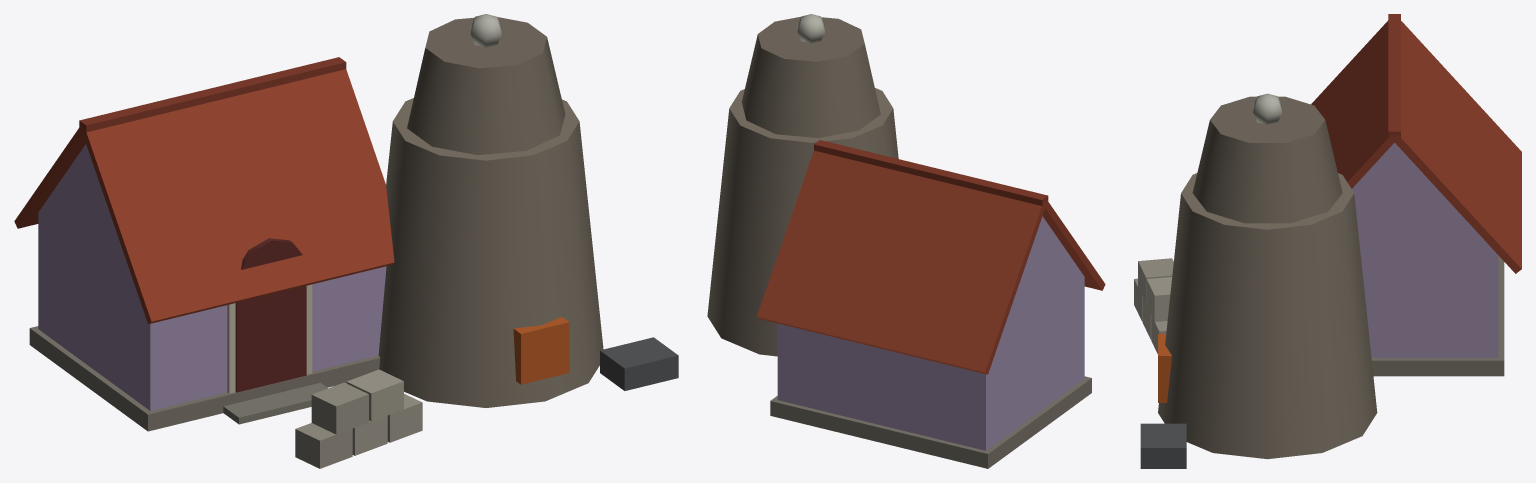
Rendered from procedural_powdermill@4.glb.
The picture shows the model from 3 angles, left to right: view 1: azimuth 30°, elevation 25°; view 2: azimuth 150°, elevation 25°; view 3: azimuth 270°, elevation 25°; orthographic projection. The views are drawn at different scales.
Visible parts, largest first — view 1: part_0, part_4; view 2: part_0, part_4; view 3: part_0, part_4.
Part boxes in pixels (box(x1,y1,x2,y2)): part_0: box(14, 17, 678, 468); part_4: box(470, 14, 501, 47); part_0: box(707, 16, 1105, 468); part_4: box(797, 14, 824, 43); part_0: box(1134, 14, 1521, 468); part_4: box(1253, 93, 1281, 124).
Size of the model in its own units: 8.51 by 6.09 by 6.72.
